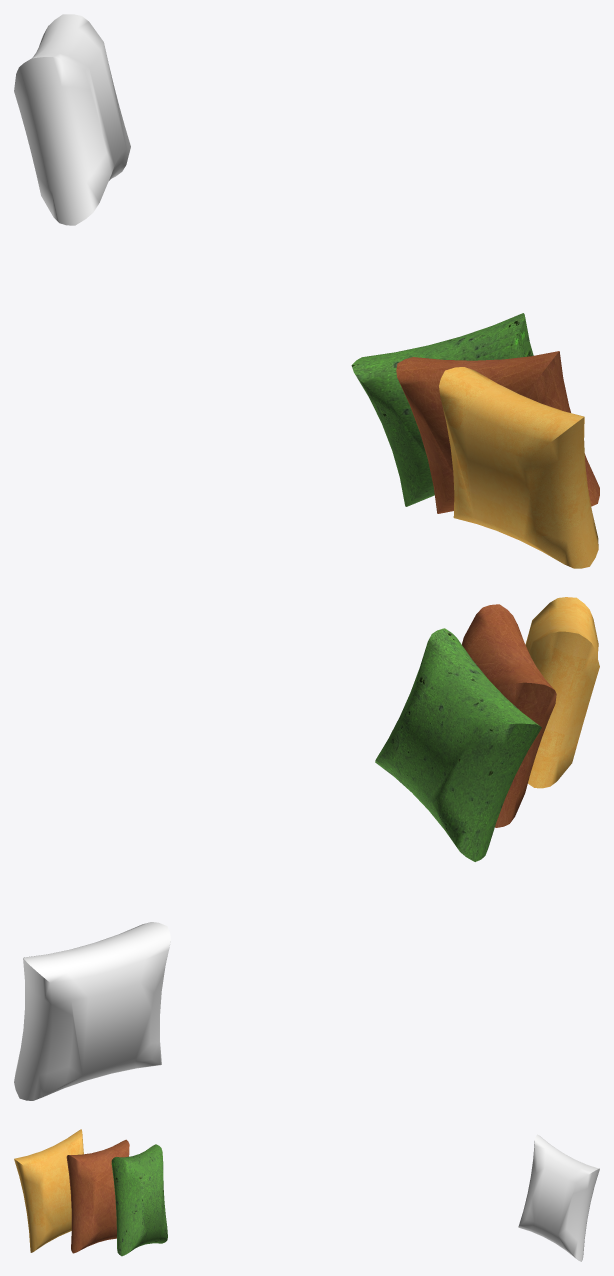
3 views of the same model, one above another, from view 1: azimuth 30°, elevation 25°; view 2: azimuth 150°, elevation 25°; view 3: azimuth 270°, elevation 25° (orthographic). The views are drawn at different scales.
Visible parts, largest first — view 1: Mesh2_tylosand_sofa_pillow_9_1_Group2_Group1_Model.001; view 2: Mesh2_tylosand_sofa_pillow_9_1_Group2_Group1_Model.001; view 3: Mesh2_tylosand_sofa_pillow_9_1_Group2_Group1_Model.001.
Boxes of the visible parts, <box> form: Mesh2_tylosand_sofa_pillow_9_1_Group2_Group1_Model.001: <box>14,14,599,568</box>; Mesh2_tylosand_sofa_pillow_9_1_Group2_Group1_Model.001: <box>14,597,599,1100</box>; Mesh2_tylosand_sofa_pillow_9_1_Group2_Group1_Model.001: <box>14,1129,599,1261</box>.
Bounding box in the file's own units: 0.2085 × 0.2009 × 1.
